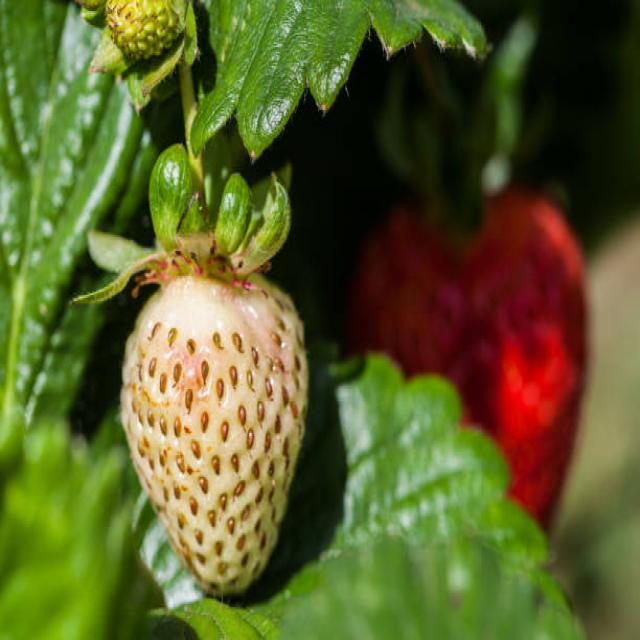Healthy Fruit: (121, 272, 310, 596)
